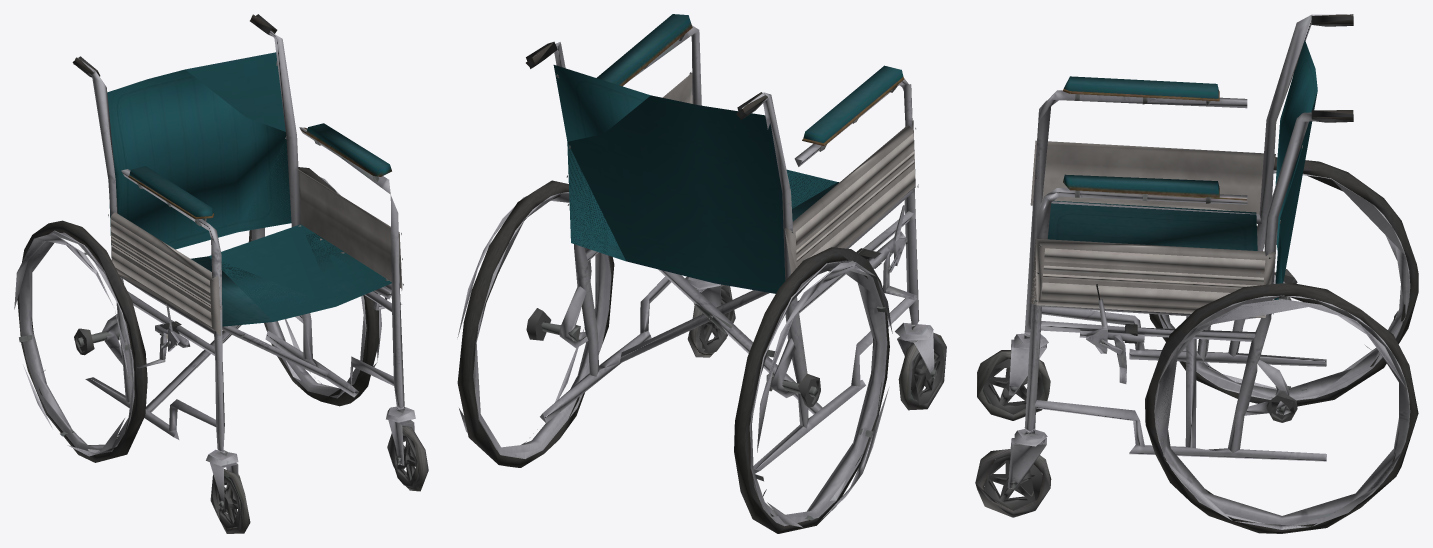
3 renders of one model, left to right at view 1: azimuth 30°, elevation 25°; view 2: azimuth 150°, elevation 25°; view 3: azimuth 270°, elevation 25°, orthographic. The views are drawn at different scales.
Visible parts, largest first — view 1: wheelchair_01; view 2: wheelchair_01; view 3: wheelchair_01.
Boxes of the visible parts, left/top/right/bottom form: wheelchair_01: left=14, top=14, right=428, bottom=533; wheelchair_01: left=457, top=14, right=946, bottom=533; wheelchair_01: left=975, top=14, right=1418, bottom=533.
Bounding box in the file's own units: 0.8241 × 1.1 × 1.08.
Materials: 1 (1 with a texture image).
